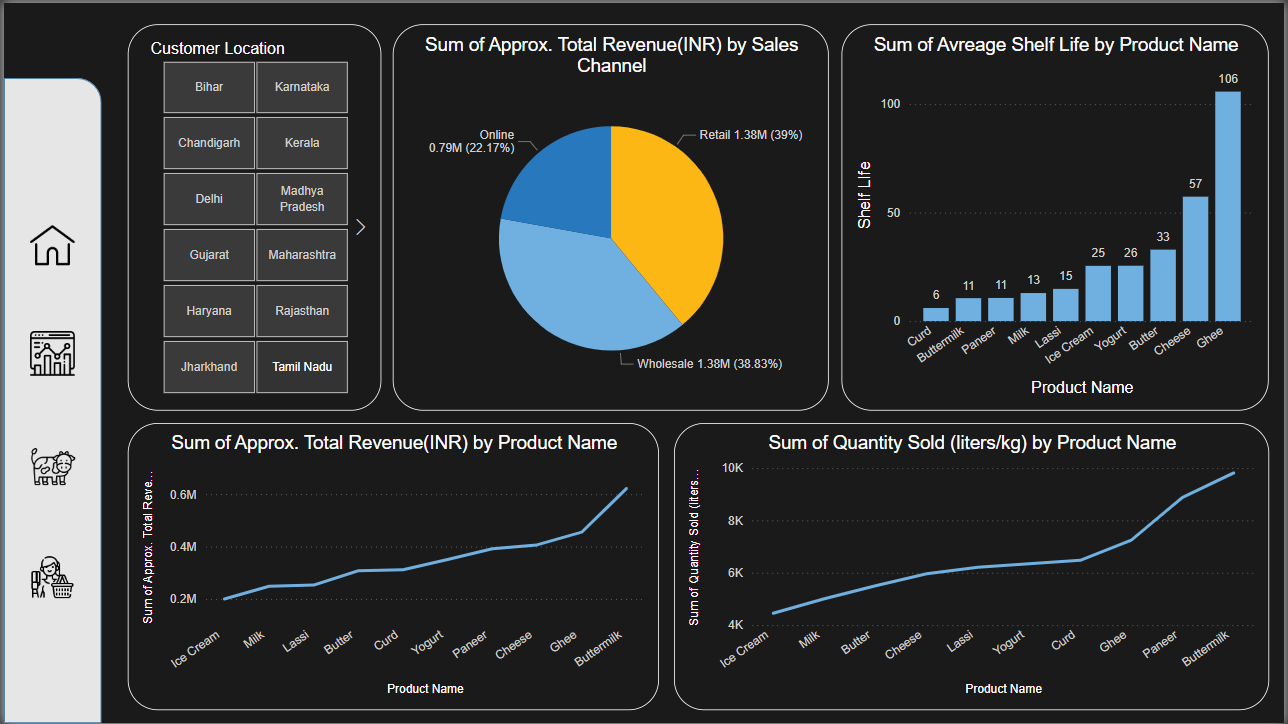

The page's visual inventory and layout, read from the dashboard file:
{"tool":"powerbi","page":{"name":"Consumer  Stats","canvas":[1280,720],"ordinal":3},"visuals":[{"type":"slicer","fields":{"Values":["Dairy_Data.Customer Location"]},"box":[123.8,21.2,253.8,386.2],"z":0},{"type":"lineChart","fields":{"Category":["Dairy_Data.Product Name"],"Y":["Sum(Dairy_Data.Approx. Total Revenue(INR))"]},"box":[123.8,420,550,287.5],"z":1000},{"type":"lineChart","fields":{"Y":["Sum(Dairy_Data.Quantity Sold (liters/kg))"],"Category":["Dairy_Data.Product Name"]},"box":[695,420,570,287.5],"z":2000},{"type":"columnChart","fields":{"Category":["ProductSummary.Product Name"],"Y":["Sum(ProductSummary.Avreage Shelf Life)"]},"box":[837.5,21.2,427.5,386.2],"z":3000},{"type":"pieChart","fields":{"Category":["Dairy_Data.Sales Channel"],"Y":["Sum(Dairy_Data.Approx. Total Revenue(INR))"]},"box":[388.8,21.2,436.2,386.2],"z":4000},{"type":"shape","box":[0,75,97.5,645],"z":5000},{"type":"image","box":[21.2,214.8,54.8,54.8],"z":6000},{"type":"image","box":[21.3,319.8,54.7,61.3],"z":7000},{"type":"image","box":[23.1,431.4,53.8,65],"z":8000},{"type":"image","box":[21.3,546.7,54.7,55.3],"z":9000}]}

Visuals, with their boxes in screenshot pixels (x1, y1, x2, y2), scaled from the page's 1280x720 canvas onto the 1288x724 screenshot:
slicer - Dairy_Data.Customer Location: left=125, top=21, right=380, bottom=410
lineChart - Dairy_Data.Product Name x Sum(Dairy_Data.Approx. Total Revenue(INR)): left=125, top=422, right=678, bottom=711
lineChart - Sum(Dairy_Data.Quantity Sold (liters/kg)) x Dairy_Data.Product Name: left=699, top=422, right=1273, bottom=711
columnChart - ProductSummary.Product Name x Sum(ProductSummary.Avreage Shelf Life): left=843, top=21, right=1273, bottom=410
pieChart - Dairy_Data.Sales Channel x Sum(Dairy_Data.Approx. Total Revenue(INR)): left=391, top=21, right=830, bottom=410
shape: left=0, top=75, right=98, bottom=723
image: left=21, top=216, right=76, bottom=271
image: left=21, top=322, right=76, bottom=383
image: left=23, top=434, right=77, bottom=499
image: left=21, top=550, right=76, bottom=605
